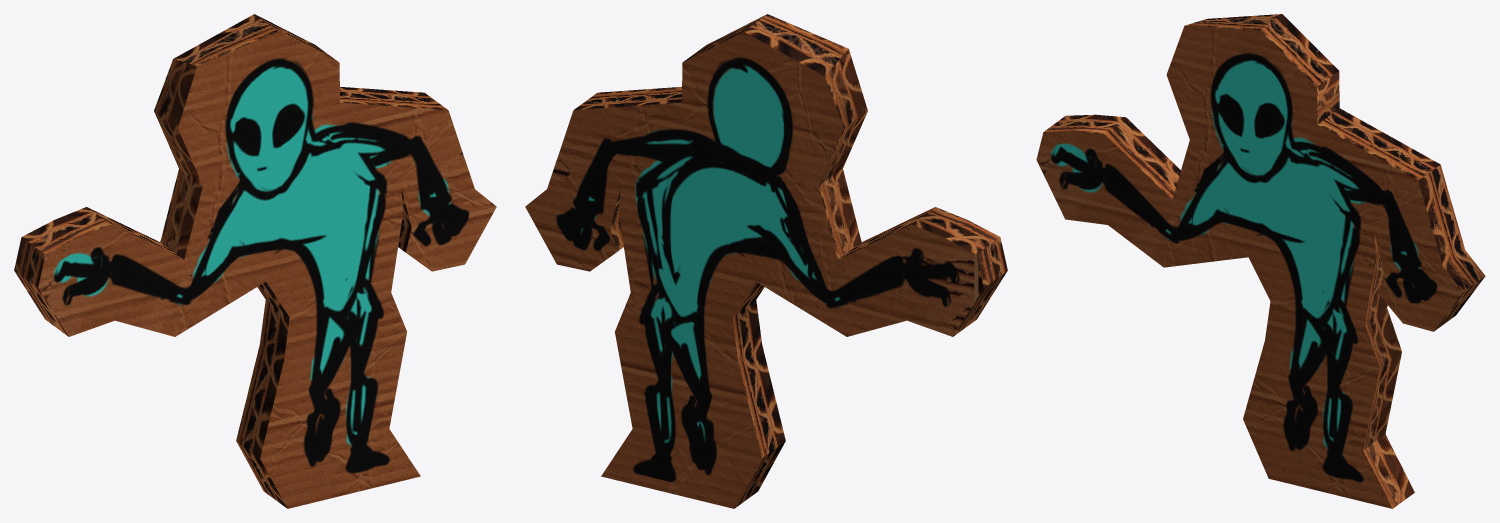
The model's file is alienModel.fbx.
The picture shows the model from 3 angles, left to right: view 1: azimuth 30°, elevation 25°; view 2: azimuth 150°, elevation 25°; view 3: azimuth 330°, elevation 25°; orthographic projection. The views are drawn at different scales.
Parts seen in each view (by area): view 1: pCube1; view 2: pCube1; view 3: pCube1.
Part boxes in pixels (box(x1,y1,x2,y2)): pCube1: box(14, 14, 496, 508); pCube1: box(525, 14, 1007, 508); pCube1: box(1036, 14, 1485, 508).
Bounding box in the file's own units: 4.32 × 4.32 × 0.3914.
